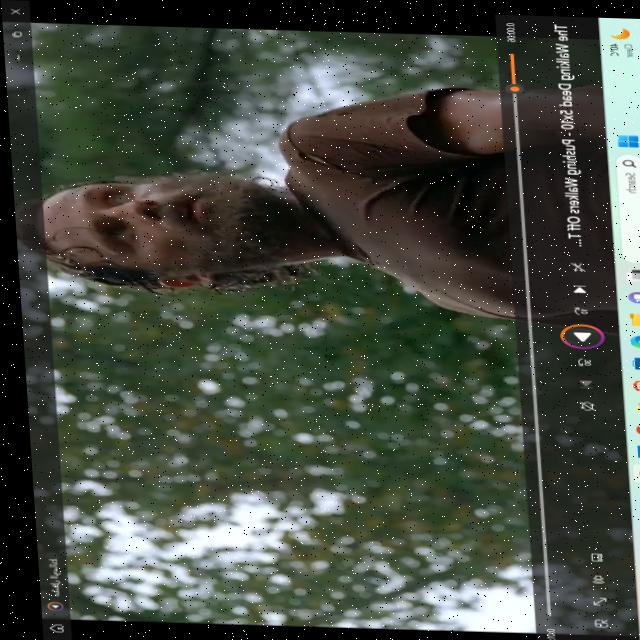human: (25, 171, 279, 269)
